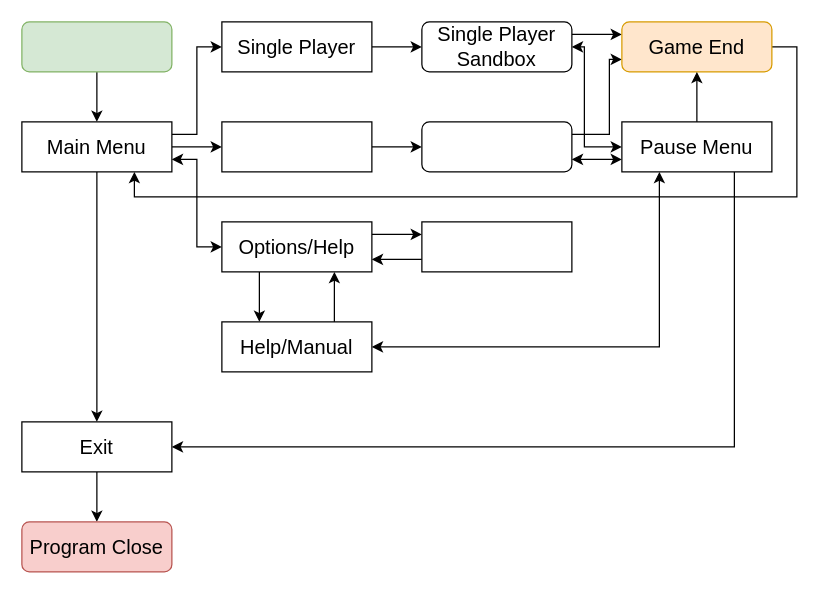
This 829x594 diagram has some shape labels left out. Each missing label, with the box of its shape:
Multiplayer: (221, 121, 372, 172)
Multiplayer Game: (421, 121, 572, 172)
Options: (421, 221, 572, 272)
Program Start: (21, 21, 172, 72)
